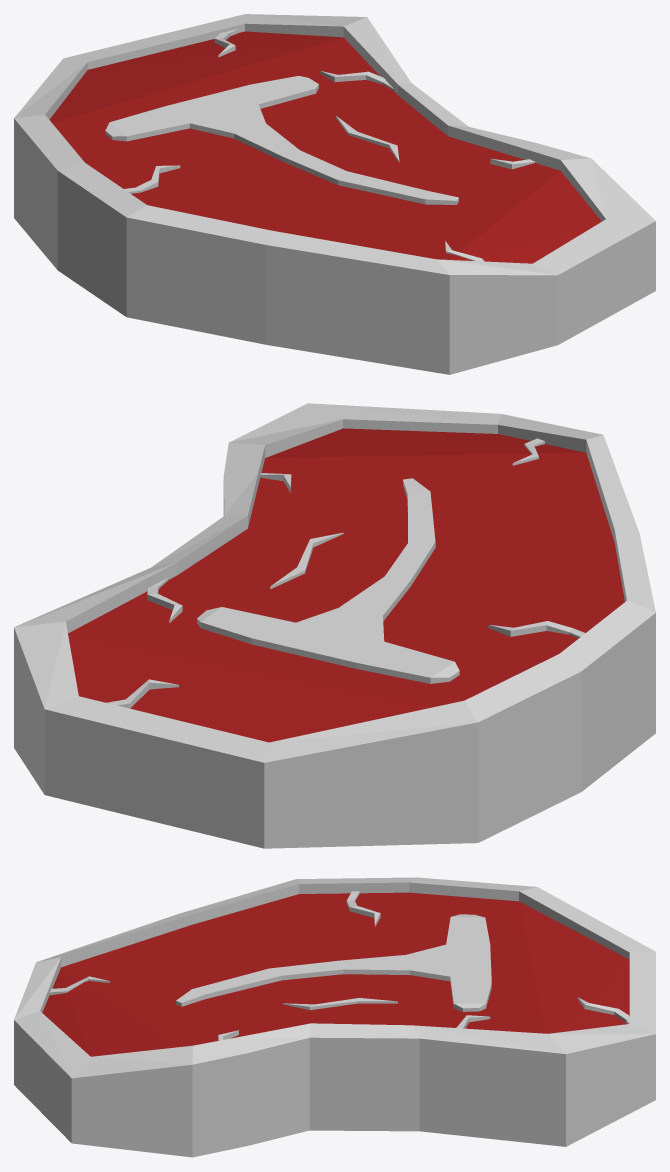
Rendered from Steak.obj.
The picture shows the model from 3 angles, top to bottom: view 1: azimuth 30°, elevation 25°; view 2: azimuth 150°, elevation 25°; view 3: azimuth 270°, elevation 25°; orthographic projection. The views are drawn at different scales.
Parts seen in each view (by area): view 1: Steak_White, Steak_DarkRed; view 2: Steak_White, Steak_DarkRed; view 3: Steak_White, Steak_DarkRed.
Boxes of the visible parts, x1,y1,x2,y2 form: Steak_White: (14, 14, 655, 374); Steak_DarkRed: (49, 31, 601, 263); Steak_White: (14, 403, 655, 848); Steak_DarkRed: (68, 428, 624, 742); Steak_White: (14, 877, 655, 1157); Steak_DarkRed: (42, 892, 629, 1056).
Bounding box in the file's own units: 1.32 × 0.3397 × 1.91.
